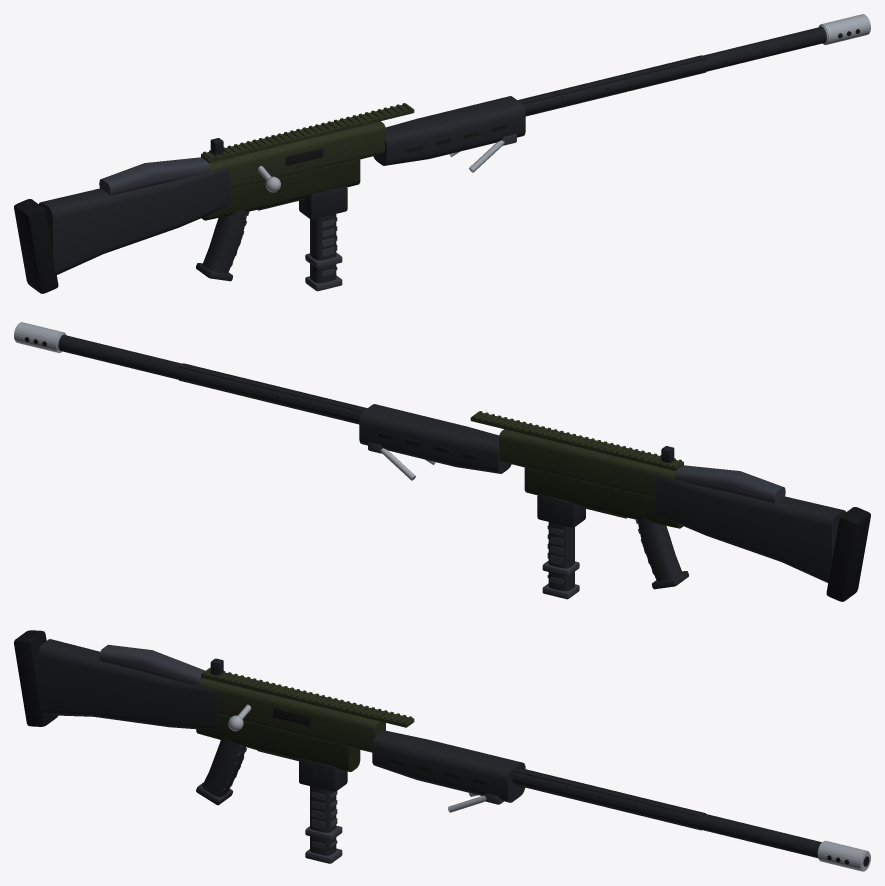
3 views of the same model, one above another, from view 1: azimuth 30°, elevation 25°; view 2: azimuth 150°, elevation 25°; view 3: azimuth 330°, elevation 25° (orthographic).
Visible parts, largest first — view 1: sr50_body, sr50_stock, mag_ext, mag_std; view 2: sr50_body, sr50_stock, mag_ext, mag_std; view 3: sr50_body, sr50_stock, mag_ext, mag_std.
Part boxes in pixels (<box>): sr50_body: <box>196,14,870,281</box>; sr50_stock: <box>14,157,229,293</box>; mag_ext: <box>305,214,342,291</box>; mag_std: <box>305,214,342,268</box>; sr50_body: <box>14,322,688,589</box>; sr50_stock: <box>655,465,870,601</box>; mag_ext: <box>542,522,579,599</box>; mag_std: <box>542,522,579,576</box>; sr50_body: <box>196,658,870,871</box>; sr50_stock: <box>14,630,217,729</box>; mag_ext: <box>305,786,342,863</box>; mag_std: <box>305,786,342,840</box>.
Size of the model in its own units: 1.36 by 0.261 by 0.097.
8 materials, 3 textured.
